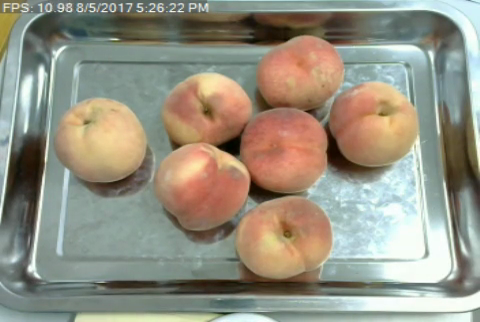Peach: (153, 142, 250, 232), (54, 95, 148, 185), (233, 197, 332, 280), (238, 105, 330, 194), (327, 80, 420, 168), (162, 71, 252, 147), (256, 35, 344, 109)
